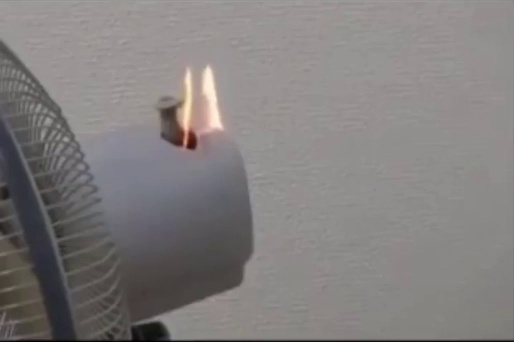fire: (179, 62, 227, 148)
